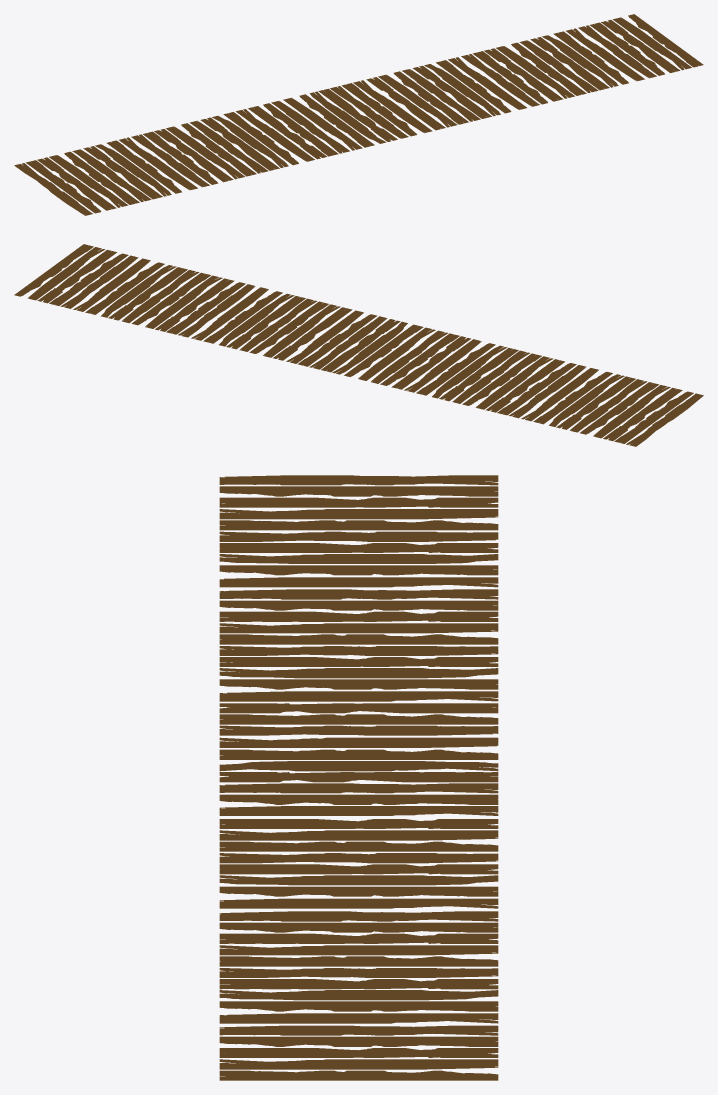
Rendered from tablasMadera02.fbx.
3 views of the same model, one above another, from view 1: azimuth 30°, elevation 25°; view 2: azimuth 150°, elevation 25°; view 3: azimuth 270°, elevation 25° (orthographic). The views are drawn at different scales.
Parts seen in each view (by area): view 1: Plane.002; view 2: Plane.002; view 3: Plane.002.
Part boxes in pixels (x1,y1,x2,y2): Plane.002: (14, 14, 703, 215); Plane.002: (14, 244, 703, 446); Plane.002: (219, 475, 498, 1080).
Bounding box in the file's own units: 30875 × 0.000453 × 6001.
Materials: 1 (1 with a texture image).
